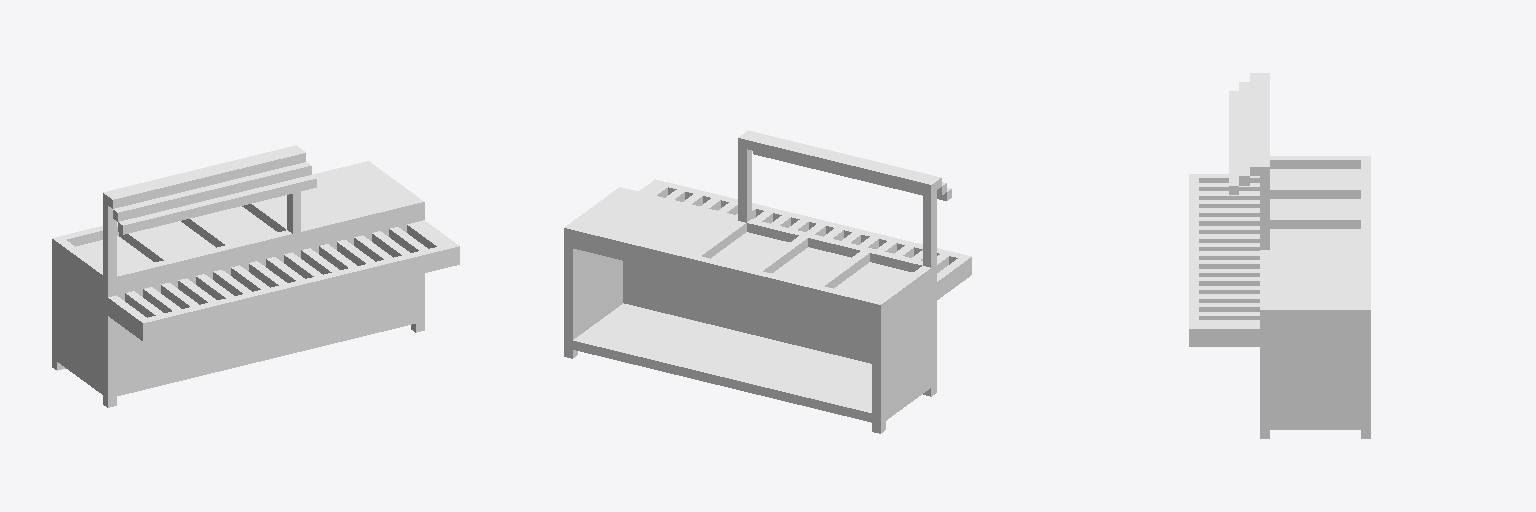
File: Cafeateria.obj
3 renders of one model, left to right at view 1: azimuth 30°, elevation 25°; view 2: azimuth 150°, elevation 25°; view 3: azimuth 270°, elevation 25°, orthographic.
Bounding box in the file's own units: 36 × 23 × 18.